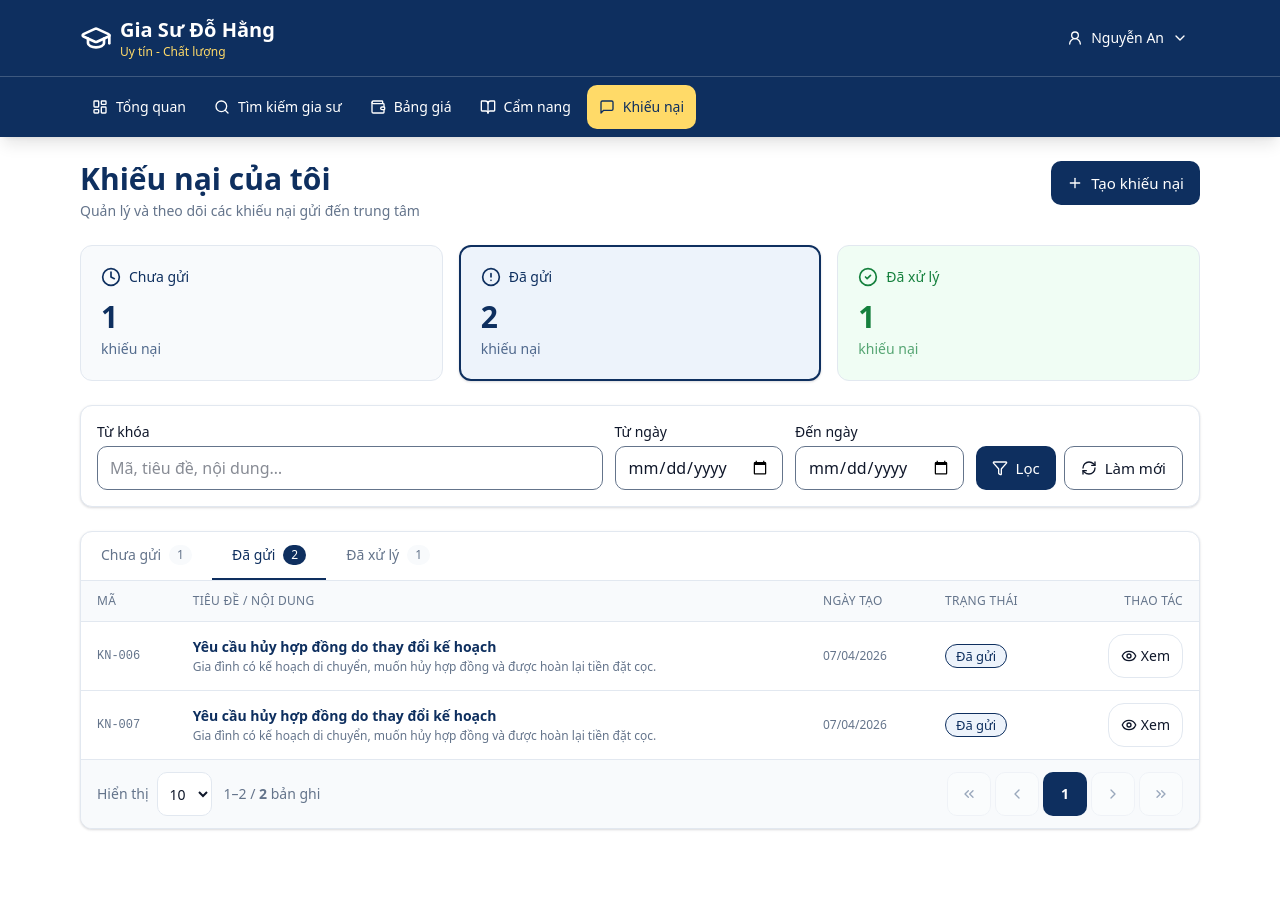
Scenario: learner complaints page › labels every sent complaint "Đã gửi" in its tab, row and detail
This screenshot has width=1280, height=900.
Expected: the text "KN-007" is shown, [81, 690, 177, 759]
What coordinates should you click on to do the following:
click the button with aria-label "Xem KN-007"
I would click on:
 (1145, 725)
Its box is [1108, 703, 1183, 747].
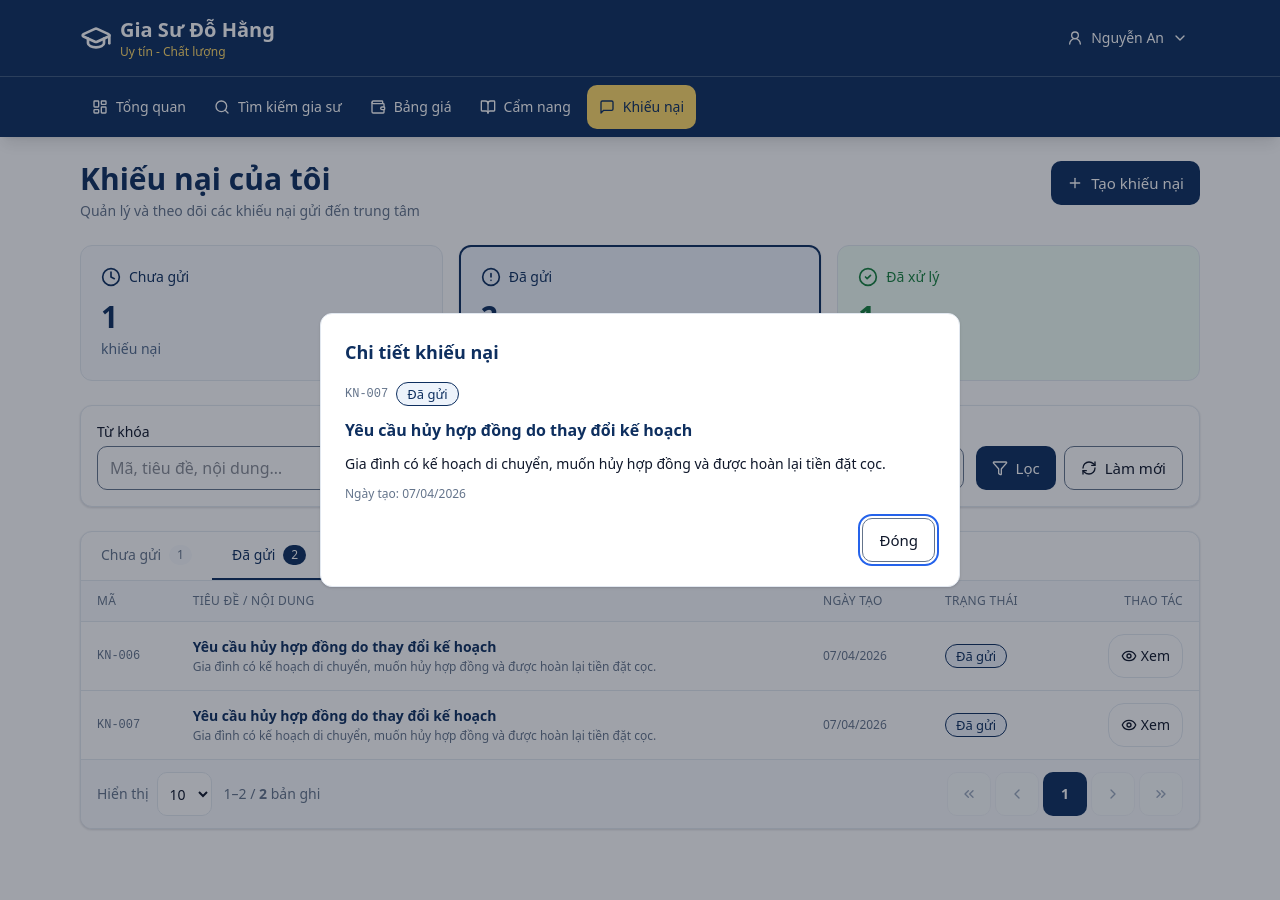
Now the text "Đã gửi" is shown, box [396, 382, 458, 406]
